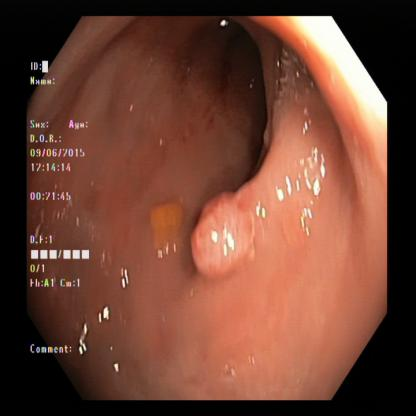Labels: (30, 56, 91, 360)
Polyps: (172, 183, 277, 294)
